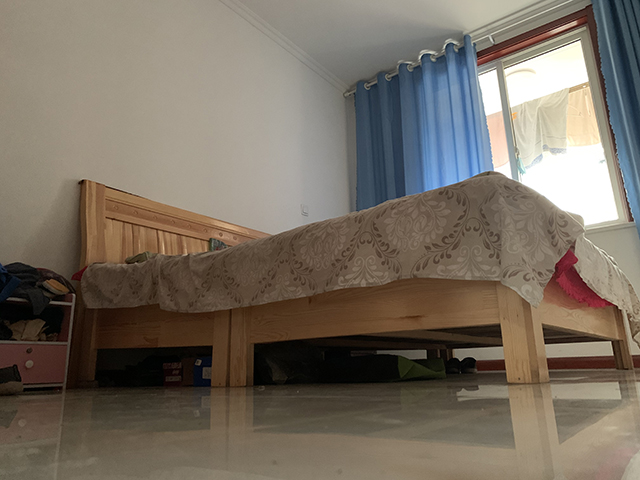bed: (65, 169, 640, 390)
cabinet: (1, 289, 77, 396)
curtain: (348, 41, 493, 176), (346, 39, 491, 174)
